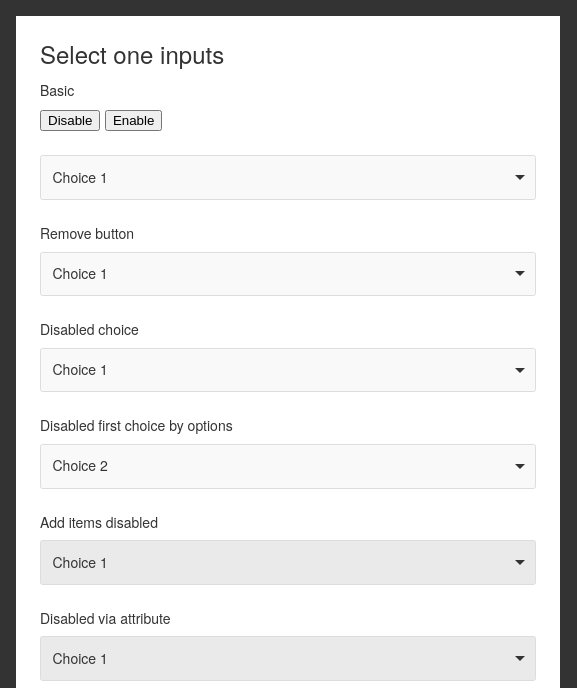
Choices - select one › scenarios › basic › searching choices › on input › searching by label › displays choices filtered by inputted value
The image size is (577, 688).
Click the dropdown with class "choices" below "Basic" at x=288, y=178, box [40,155,536,200]
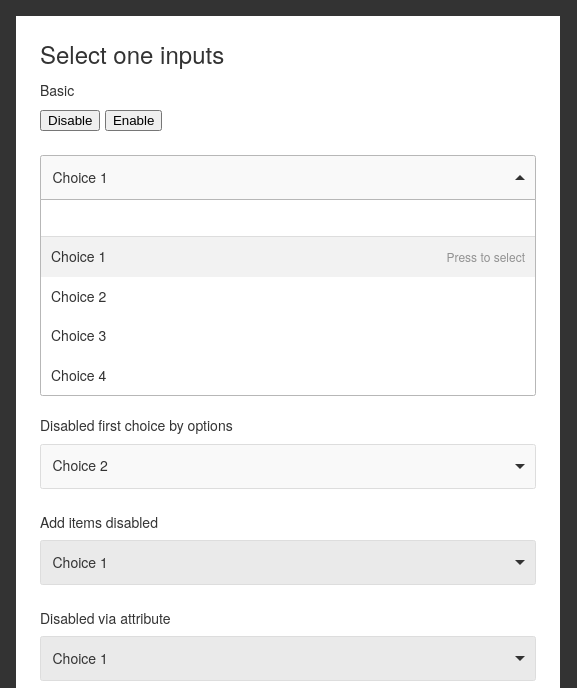
Type "item 2" into the field with class "choices__input--cloned" at x=288, y=219, box [41,200,535,237]
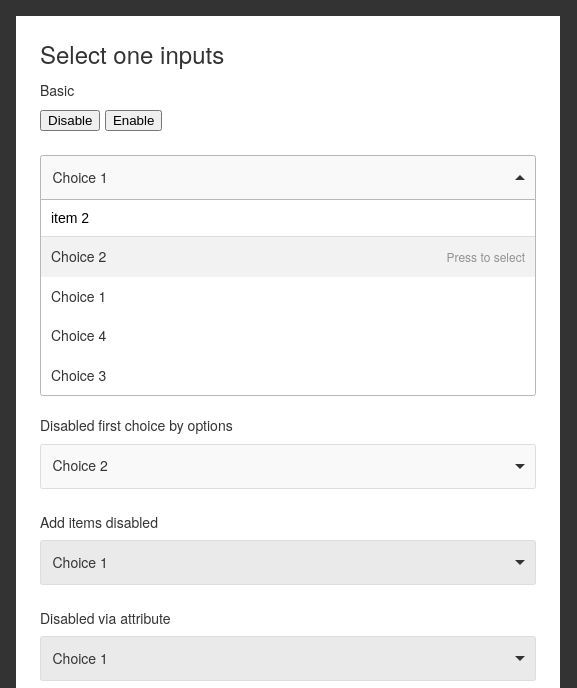
expect the option "Choice 2" is shown: met, box [41,237,535,277]
